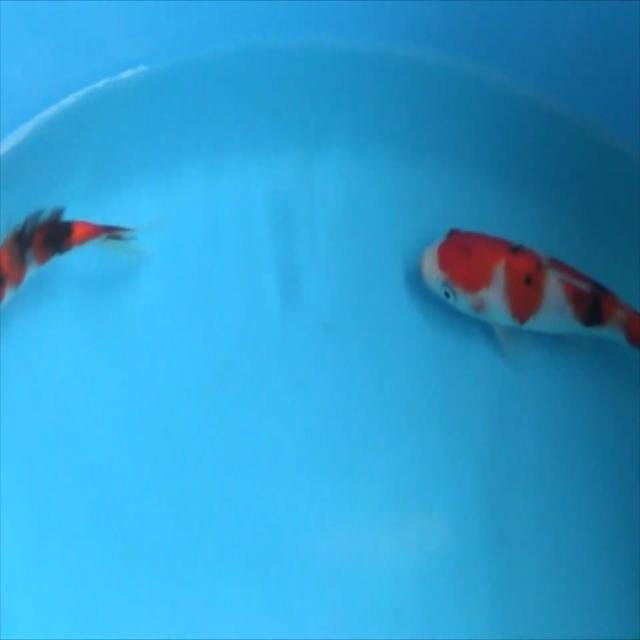Sanke: (419, 225, 639, 352), (0, 203, 137, 306)
